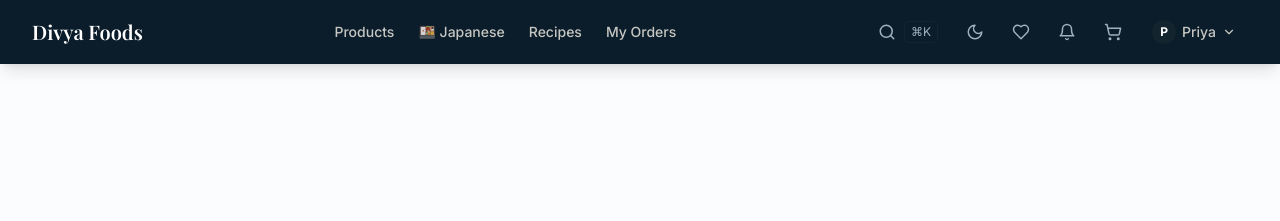
it: Navbar › shows the account menu for an authenticated customer, without an Admin Panel link
Click the button with aria-label "Account menu" at (1194, 32), box [1140,14,1248,50]
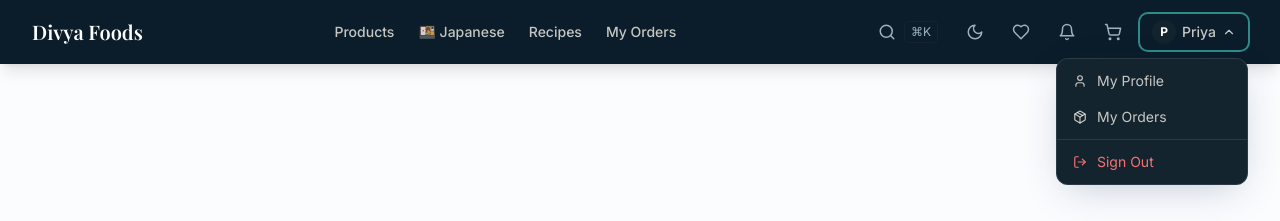
Expected: the menu item "My Profile" is shown, [1073,72,1164,89]
Expected: the menu item "My Orders" is shown, [1073,108,1167,125]
